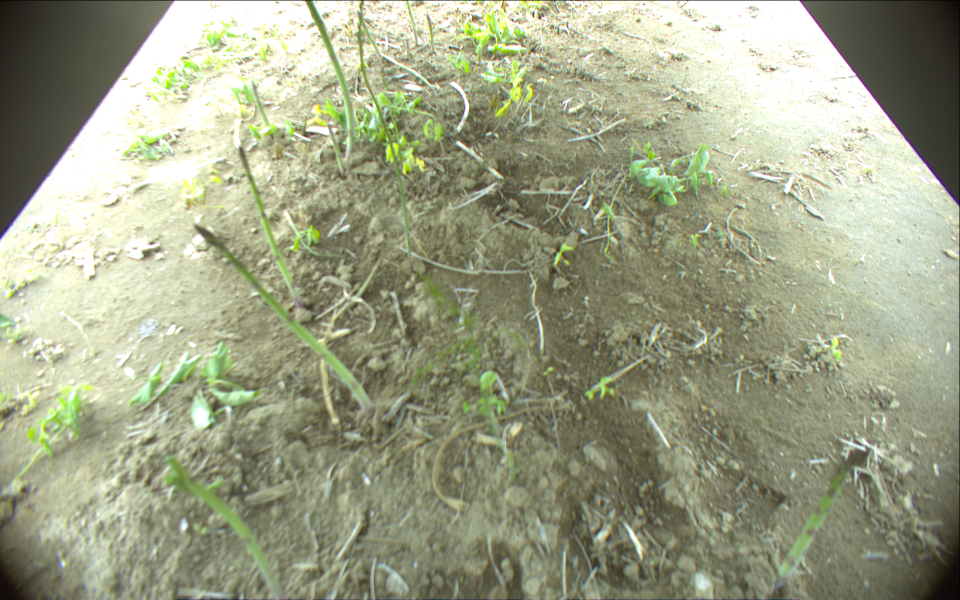aspa: (193, 225, 373, 410), (765, 442, 873, 600), (166, 459, 286, 600), (356, 1, 412, 259), (238, 145, 308, 314), (304, 1, 355, 163), (357, 14, 439, 91), (281, 210, 347, 259), (354, 1, 389, 79), (325, 122, 348, 172), (250, 79, 272, 129), (404, 1, 420, 47), (427, 13, 435, 52)
